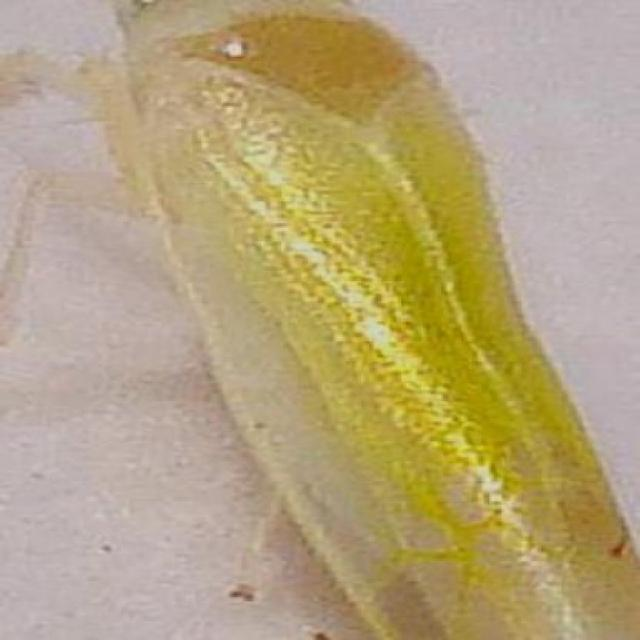green-leafhopper: (119, 1, 635, 640)
